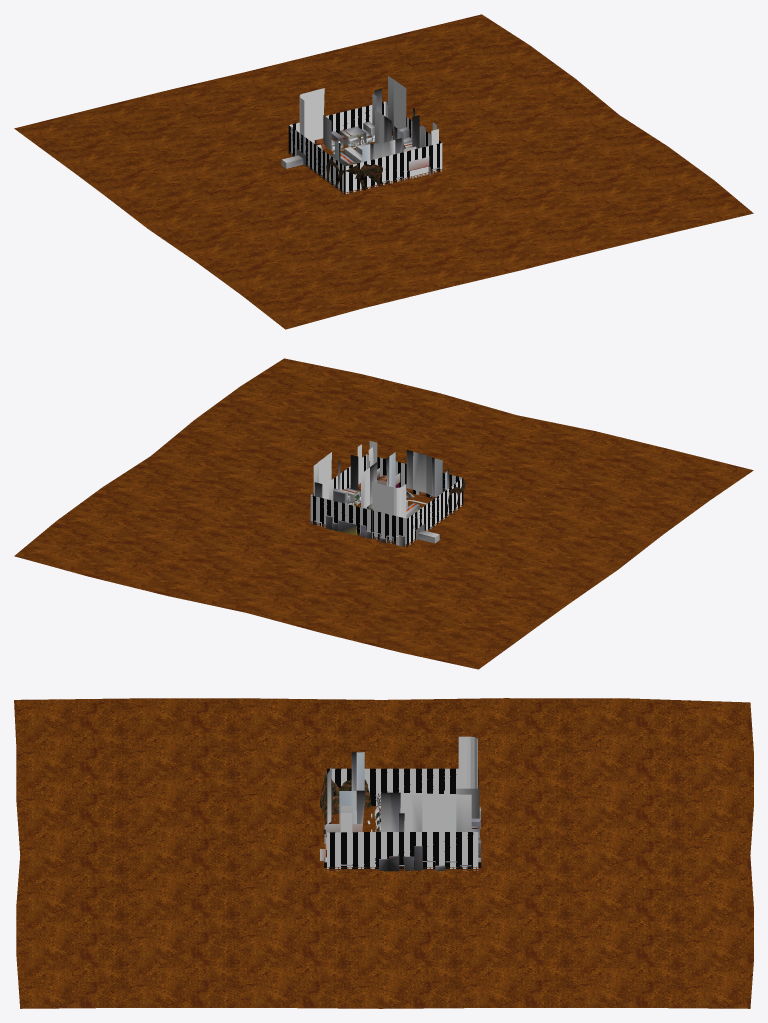
File: GhostTown.FBX
3 renders of one model, top to bottom at view 1: azimuth 30°, elevation 25°; view 2: azimuth 150°, elevation 25°; view 3: azimuth 270°, elevation 25°, orthographic. The views are drawn at different scales.
Visible parts, largest first — view 1: Mesh01, Object01, Object173, Object172, Object169; view 2: Mesh01, Object01, Object169, Object173, Object172; view 3: Mesh01, Object01, Object172, Object166, Object173, Object171, Object175.
Part boxes in pixels (bbox=[...]): Mesh01: bbox=[14, 14, 753, 329]; Object01: bbox=[288, 101, 442, 194]; Object173: bbox=[299, 88, 326, 148]; Object172: bbox=[388, 76, 406, 136]; Object169: bbox=[362, 138, 402, 185]; Mesh01: bbox=[14, 358, 753, 669]; Object01: bbox=[310, 454, 463, 546]; Object169: bbox=[406, 450, 442, 501]; Object173: bbox=[371, 482, 406, 544]; Object172: bbox=[313, 452, 331, 499]; Mesh01: bbox=[14, 698, 753, 1008]; Object01: bbox=[327, 768, 478, 870]; Object172: bbox=[422, 793, 471, 866]; Object166: bbox=[381, 792, 424, 831]; Object173: bbox=[458, 736, 480, 828]; Object171: bbox=[339, 790, 365, 825]; Object175: bbox=[351, 752, 365, 810].
Bounding box in the file's own units: 59333 × 7780 × 59888.
